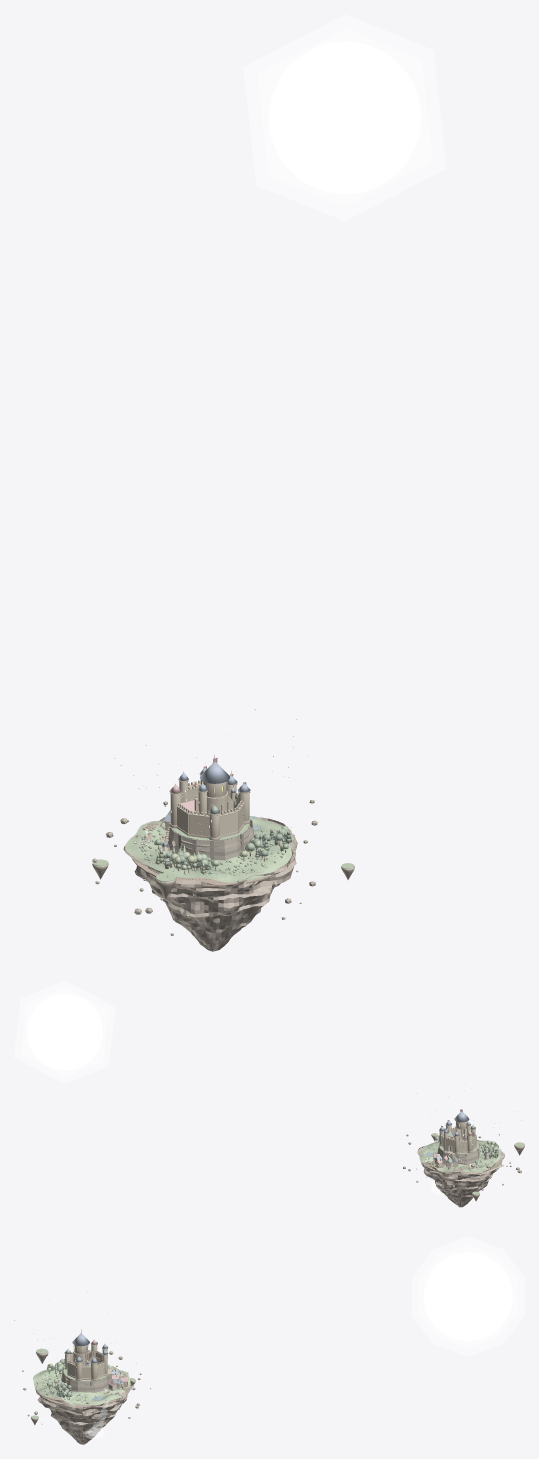
3 renders of one model, top to bottom at view 1: azimuth 30°, elevation 25°; view 2: azimuth 150°, elevation 25°; view 3: azimuth 270°, elevation 25°, orthographic. The views are drawn at different scales.
Visible parts, largest first — view 1: 月晕, 月亮, 岩体, 草甸, 林木; view 2: 月晕, 月亮, 岩体, 草甸; view 3: 月晕, 月亮, 岩体, 草甸, 林木.
Part boxes in pixels (bbox=[...]): 月晕: bbox=[243, 14, 446, 220]; 月亮: bbox=[269, 41, 420, 193]; 岩体: bbox=[123, 817, 297, 951]; 草甸: bbox=[125, 816, 293, 882]; 林木: bbox=[154, 826, 292, 874]; 月晕: bbox=[14, 980, 115, 1083]; 月亮: bbox=[26, 994, 102, 1070]; 岩体: bbox=[417, 1140, 504, 1207]; 草甸: bbox=[419, 1140, 501, 1171]; 月晕: bbox=[412, 1236, 524, 1356]; 月亮: bbox=[424, 1252, 512, 1340]; 岩体: bbox=[33, 1374, 133, 1444]; 草甸: bbox=[33, 1364, 130, 1405]; 林木: bbox=[47, 1358, 71, 1399].
Size of the model in its own units: 237 by 203 by 276.
